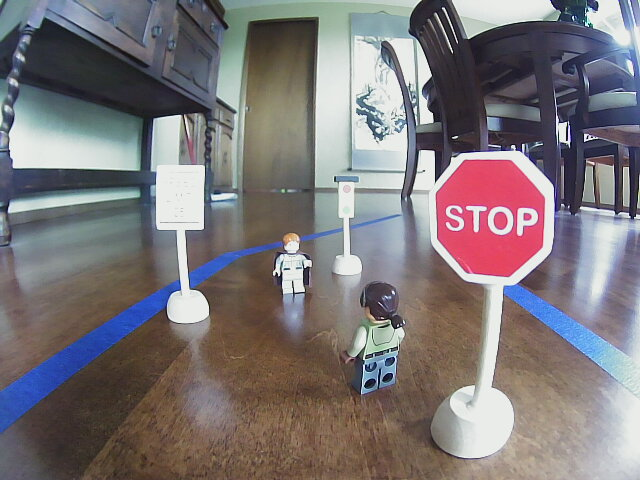SpeedLimit55: (156, 166, 204, 230)
StopSign: (442, 155, 539, 271)
TrafficLight: (335, 175, 353, 219)
person: (341, 277, 409, 394), (267, 232, 318, 305)
